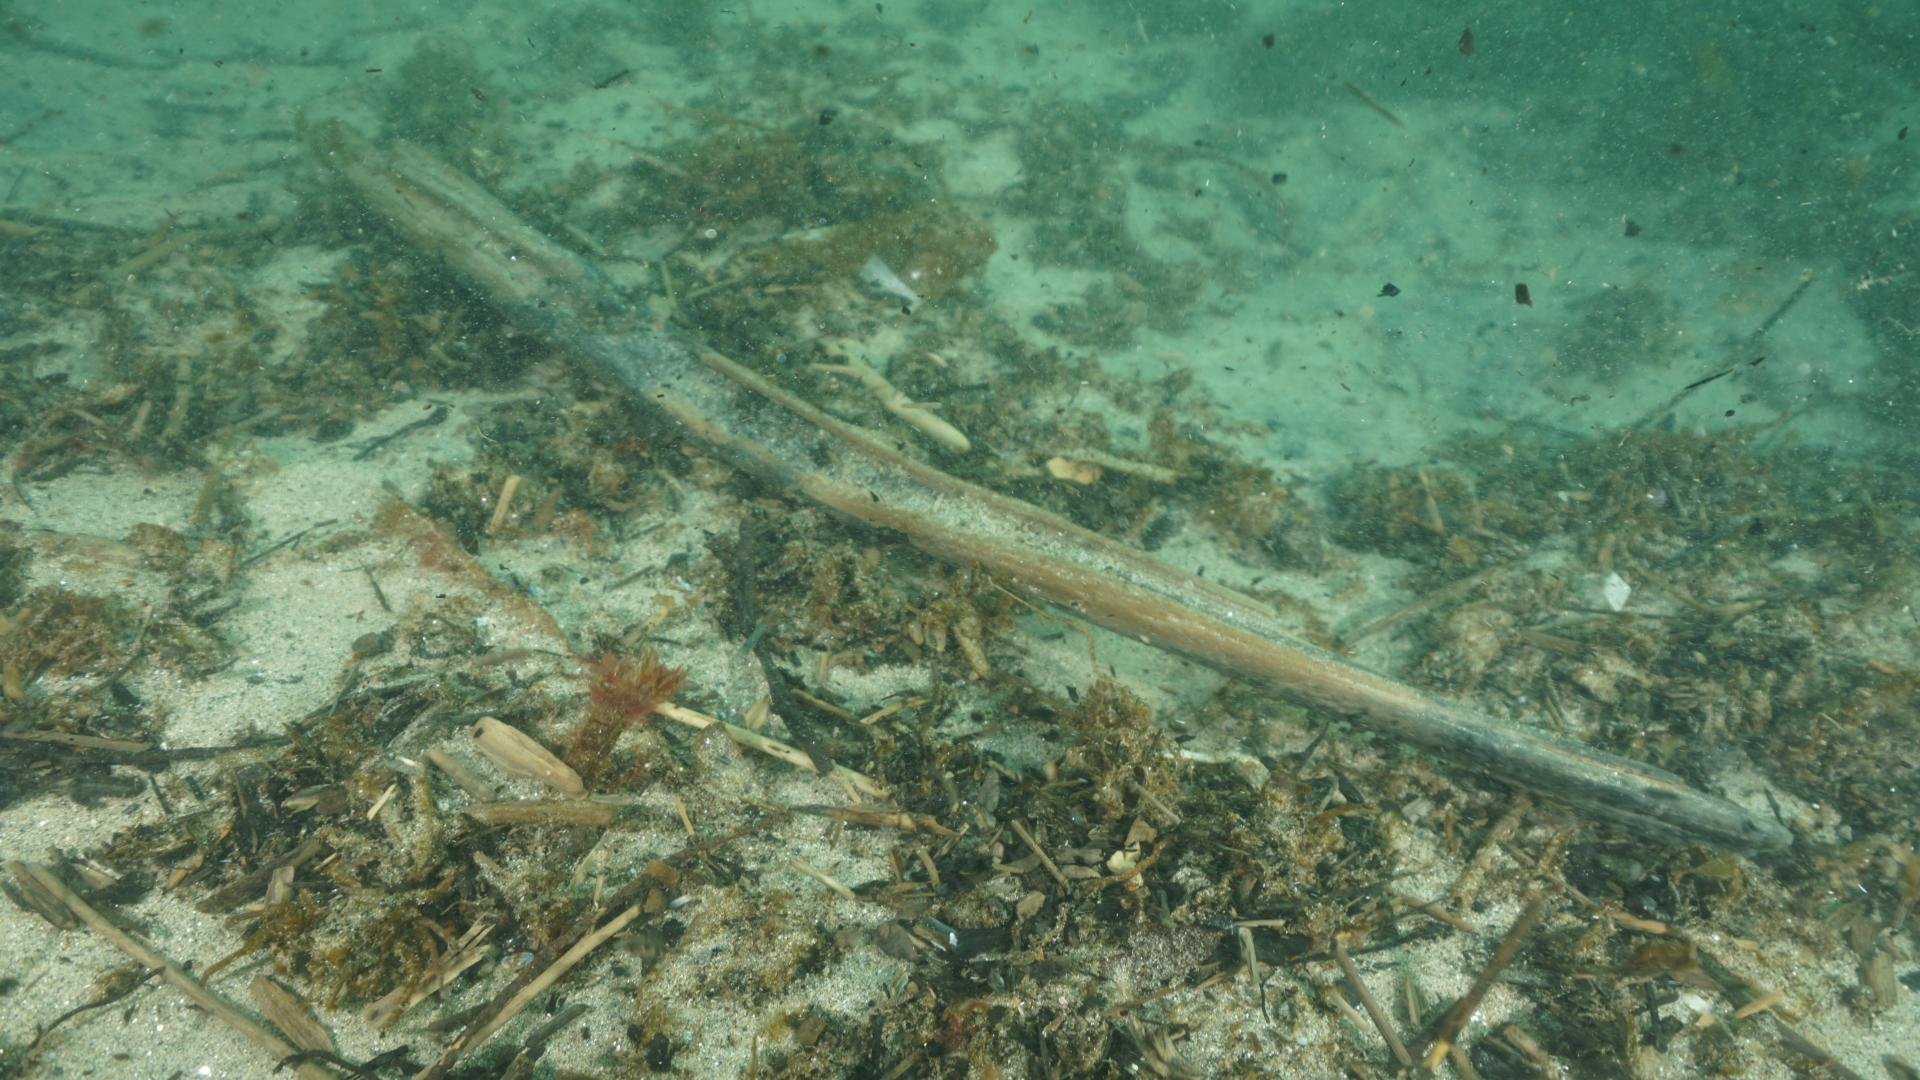wood: (290, 80, 1795, 855)
